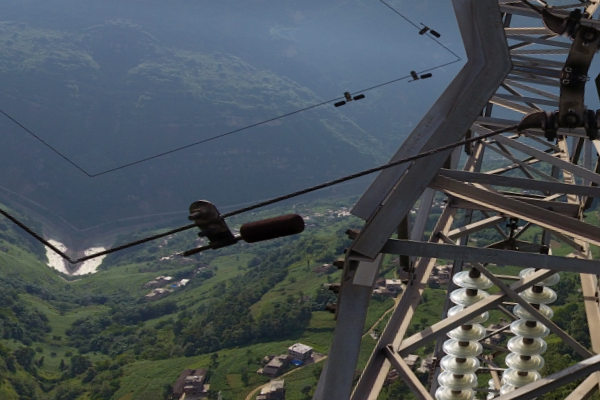damper: (332, 89, 366, 106)
damper_defect: (180, 197, 307, 260), (416, 23, 440, 41), (403, 69, 431, 84)
